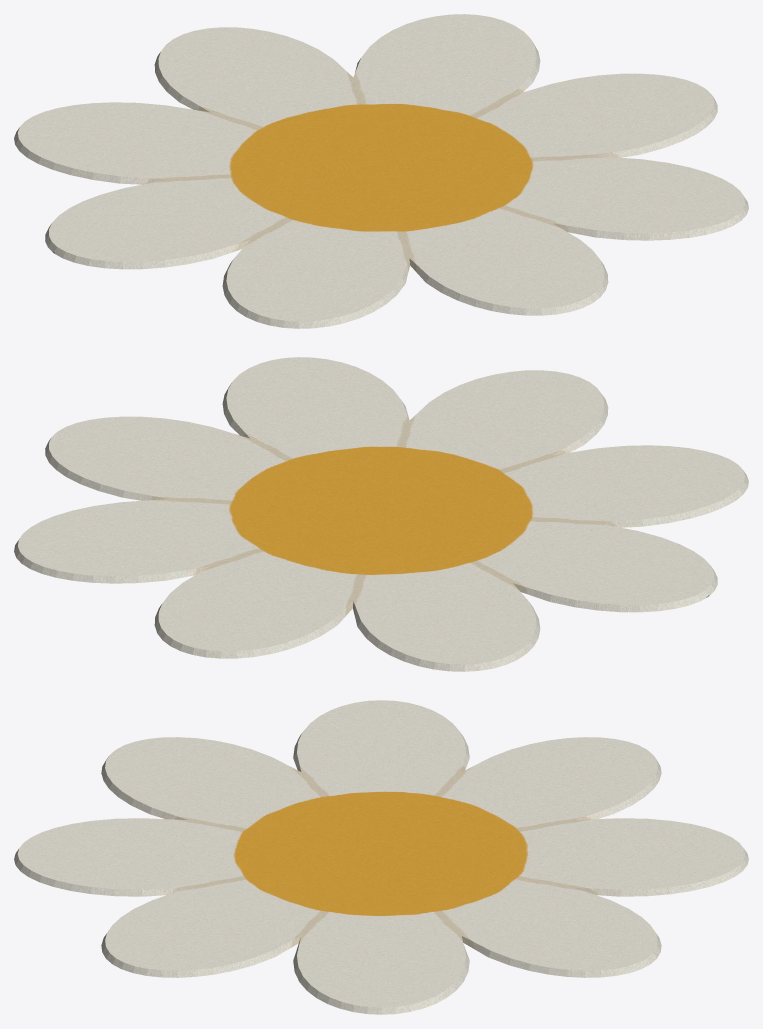
Rendered from rug-daisy-white.glb.
3 renders of one model, top to bottom at view 1: azimuth 30°, elevation 25°; view 2: azimuth 150°, elevation 25°; view 3: azimuth 270°, elevation 25°, orthographic. The views are drawn at different scales.
Parts seen in each view (by area): view 1: rug-daisy-white; view 2: rug-daisy-white; view 3: rug-daisy-white.
Boxes of the visible parts, box(x1,y1,x2,y2) form: rug-daisy-white: box(14, 14, 748, 328); rug-daisy-white: box(14, 357, 748, 671); rug-daisy-white: box(14, 700, 748, 1014).
Size of the model in its own units: 1.2 by 0.00996 by 1.2.
Materials: 1 (1 with a texture image).
